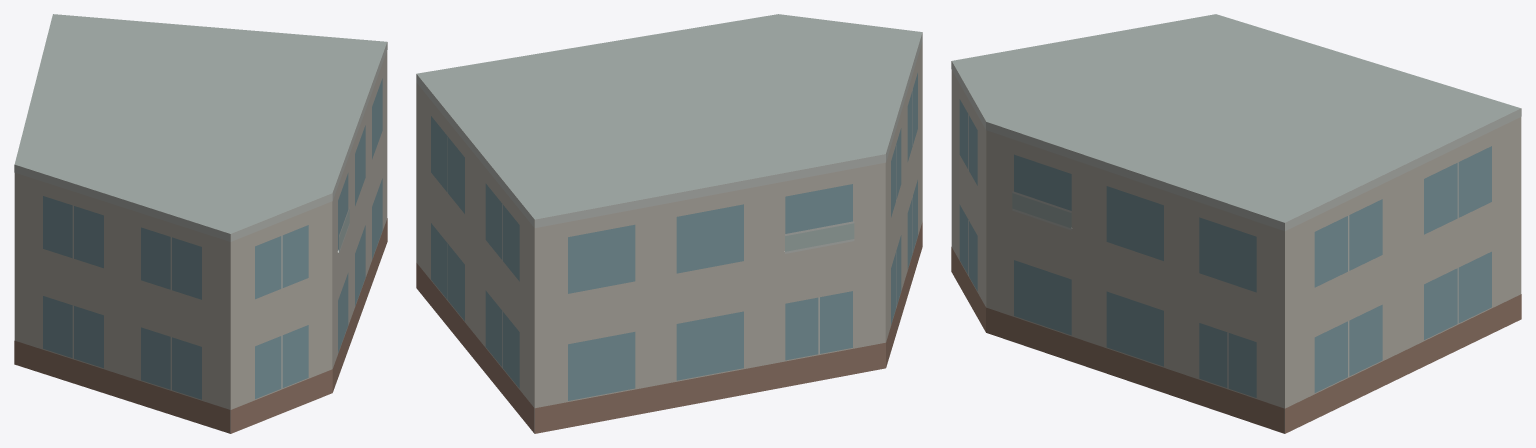
File: survey-upis-32764753.glb
3 renders of one model, left to right at view 1: azimuth 30°, elevation 25°; view 2: azimuth 150°, elevation 25°; view 3: azimuth 270°, elevation 25°, orthographic. The views are drawn at different scales.
Visible parts, largest first — view 1: survey-upis-32764753.tmp; view 2: survey-upis-32764753.tmp; view 3: survey-upis-32764753.tmp.
Part boxes in pixels (x1,y1,x2,y2): survey-upis-32764753.tmp: (14,14,387,433); survey-upis-32764753.tmp: (416,14,922,433); survey-upis-32764753.tmp: (951,14,1521,433).
Size of the model in its own units: 12.96 by 6.1 by 14.94.
